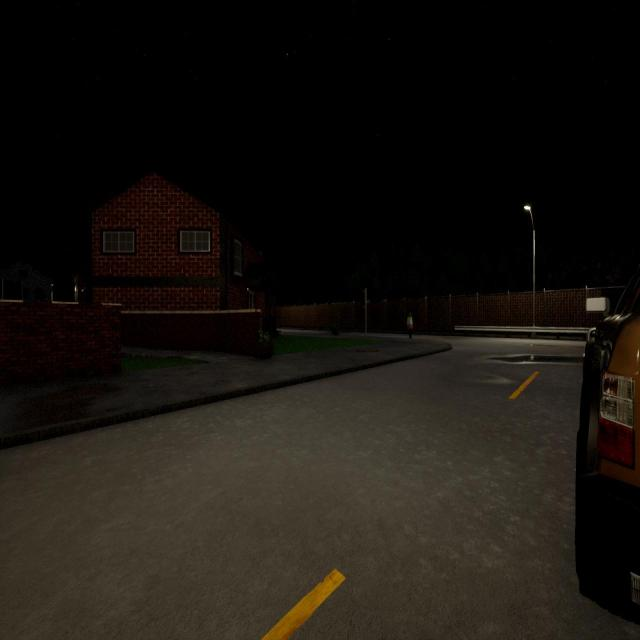Pedestrian: (406, 313, 412, 338)
Vehicle: (575, 267, 639, 622)
